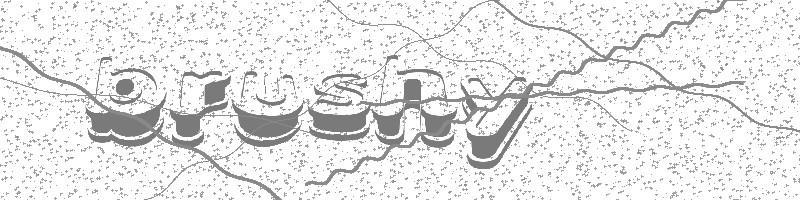b: (83, 56, 165, 148)
h: (372, 53, 459, 150)
r: (169, 68, 231, 152)
s: (308, 72, 371, 144)
u: (232, 70, 303, 147)
y: (459, 76, 535, 173)
